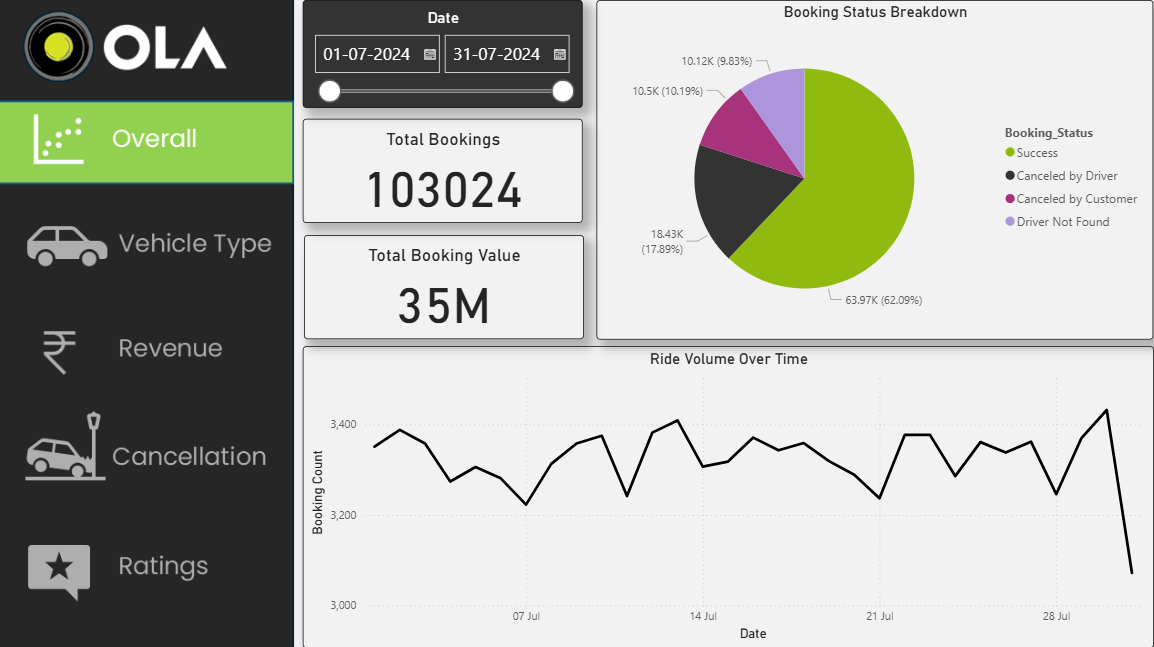

Layout of this report page (visuals, bound fields, positions):
{"tool":"powerbi","page":{"name":"Overall","canvas":[1280,720],"ordinal":0},"visuals":[{"type":"actionButton","box":[0,222.5,322.5,92.5],"z":0},{"type":"actionButton","box":[0,333.8,322.5,92.5],"z":1000},{"type":"actionButton","box":[0,447.5,322.5,92.5],"z":2000},{"type":"actionButton","box":[0,585,322.5,92.5],"z":3000},{"type":"lineChart","title":"Ride Volume Over Time","fields":{"Y":["CountNonNull(July.Booking_ID)"],"Category":["July.Date"]},"box":[332.9,380,934.3,331.4],"z":4000},{"type":"pieChart","title":"Booking Status Breakdown","fields":{"Category":["July.Booking_Status"],"Y":["CountNonNull(July.Booking_Status)"]},"box":[655.7,0,611.4,372.9],"z":5000},{"type":"slicer","title":"Date","fields":{"Values":["July.Date"]},"box":[332.9,0,307.1,118.6],"z":6000},{"type":"card","title":"Total Bookings","fields":{"Values":["CountNonNull(July.Booking_ID)"]},"box":[332.9,130,307.1,114.3],"z":7000},{"type":"card","title":"Total Booking Value","fields":{"Values":["Sum(July.Booking_Value)"]},"box":[334.3,258.6,307.1,114.3],"z":8000}]}

Visuals, with their boxes in screenshot pixels (x1, y1, x2, y2), scaled from the page's 1280x720 canvas onto the 1154x647 screenshot:
actionButton: <box>0,200,291,283</box>
actionButton: <box>0,300,291,383</box>
actionButton: <box>0,402,291,485</box>
actionButton: <box>0,526,291,609</box>
"Ride Volume Over Time" lineChart: <box>300,341,1142,639</box>
"Booking Status Breakdown" pieChart: <box>591,0,1142,335</box>
"Date" slicer: <box>300,0,577,107</box>
"Total Bookings" card: <box>300,117,577,220</box>
"Total Booking Value" card: <box>301,232,578,335</box>
